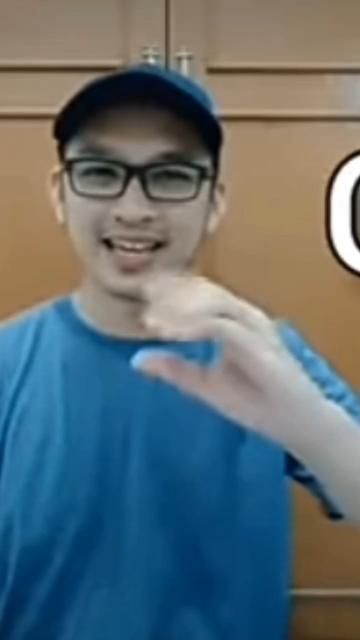C: (129, 273, 309, 439)
